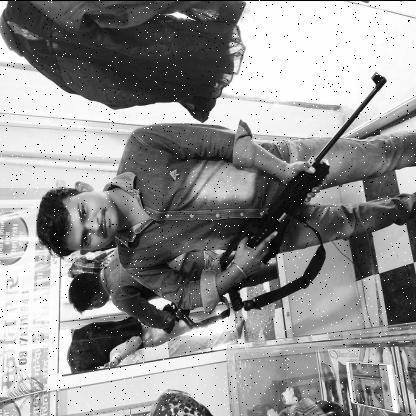rifle: (217, 67, 389, 314)
